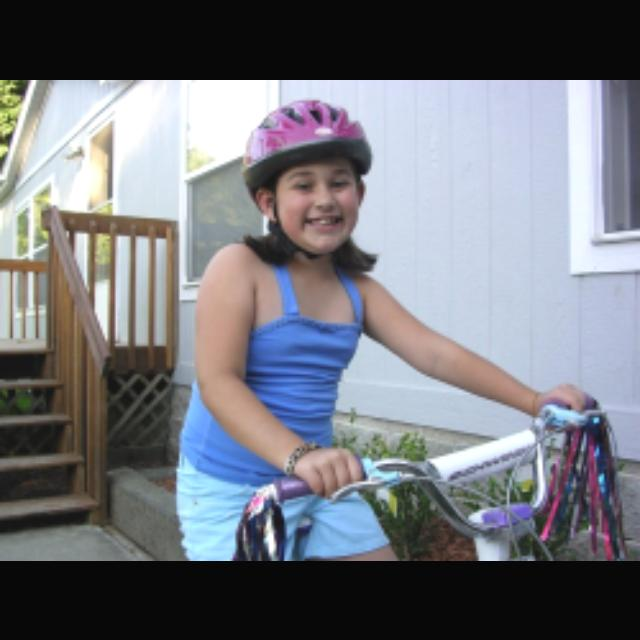With Helmet: (228, 92, 378, 258)
